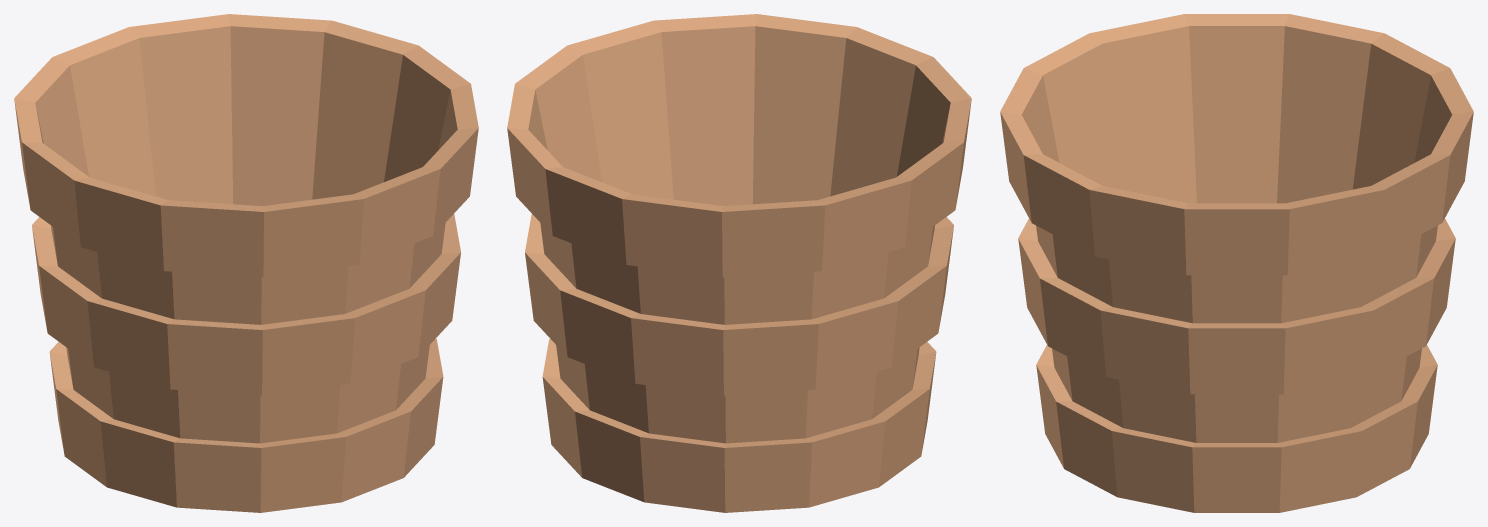
Rendered from Bucket.fbx.
The picture shows the model from 3 angles, left to right: view 1: azimuth 30°, elevation 25°; view 2: azimuth 150°, elevation 25°; view 3: azimuth 270°, elevation 25°; orthographic projection.
Parts seen in each view (by area): view 1: Basket; view 2: Basket; view 3: Basket.
Part boxes in pixels (left/top/right/bottom): Basket: left=14, top=14, right=478, bottom=512; Basket: left=507, top=14, right=971, bottom=512; Basket: left=1000, top=14, right=1473, bottom=512.
Size of the model in its own units: 2.65 by 2.04 by 2.72.
